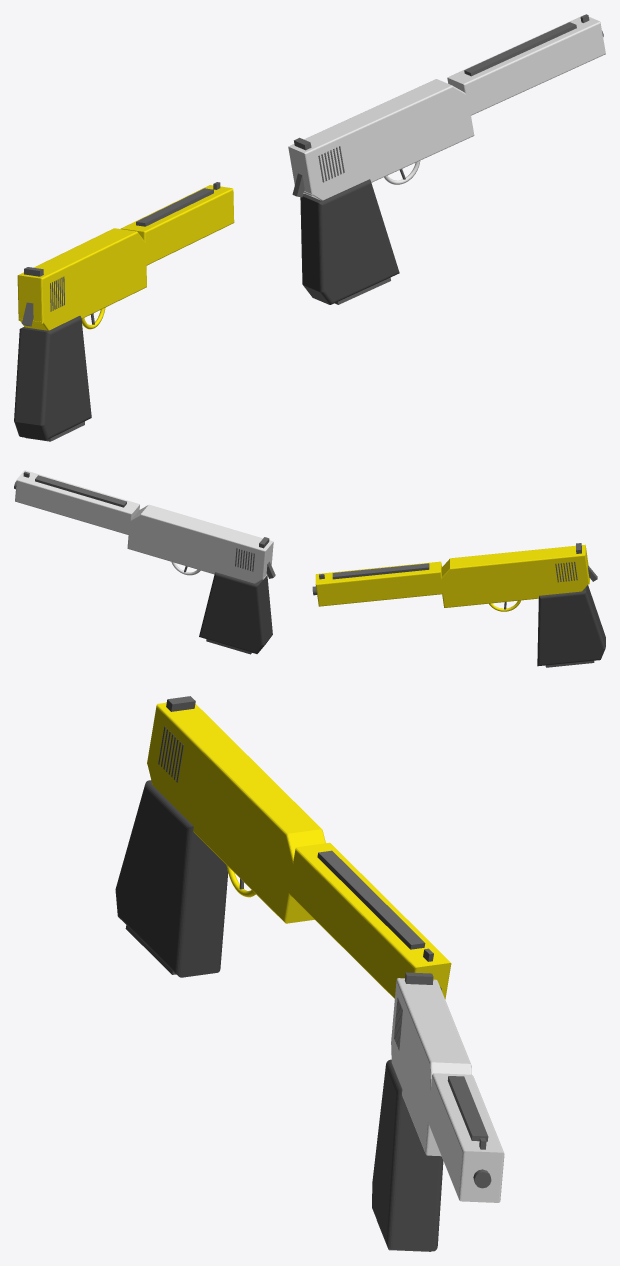
File: dual-wield-desert-eagles.gltf
The picture shows the model from 3 angles, top to bottom: view 1: azimuth 30°, elevation 25°; view 2: azimuth 150°, elevation 25°; view 3: azimuth 270°, elevation 25°; orthographic projection. The views are drawn at different scales.
Size of the model in its own units: 5.44 by 1.46 by 1.8.
